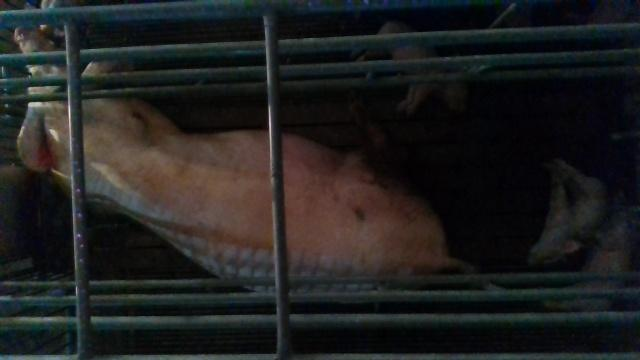piglet: (350, 19, 467, 115), (542, 206, 640, 312), (529, 160, 613, 268)
sow-sit: (13, 26, 478, 294)
